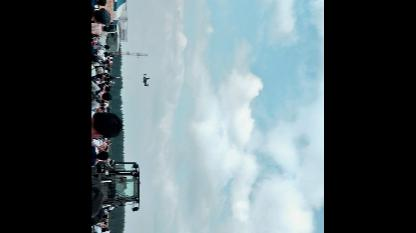Tornado: (143, 74, 150, 89)
